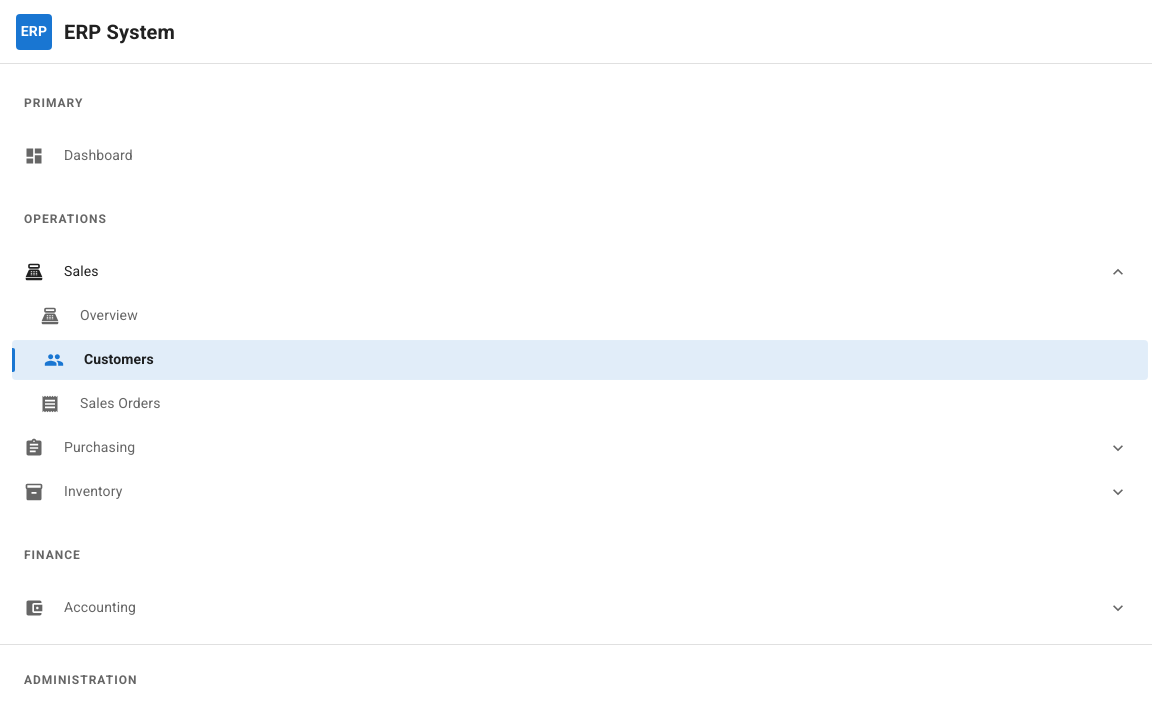
Sidebar › collapses expanded groups when navigating to a route without a parent group
Expected: the text "Customers" is shown, left=84, top=351, right=154, bottom=367
Step 1. Click the button "Dashboard" → [78, 156], box left=24, top=146, right=133, bottom=166
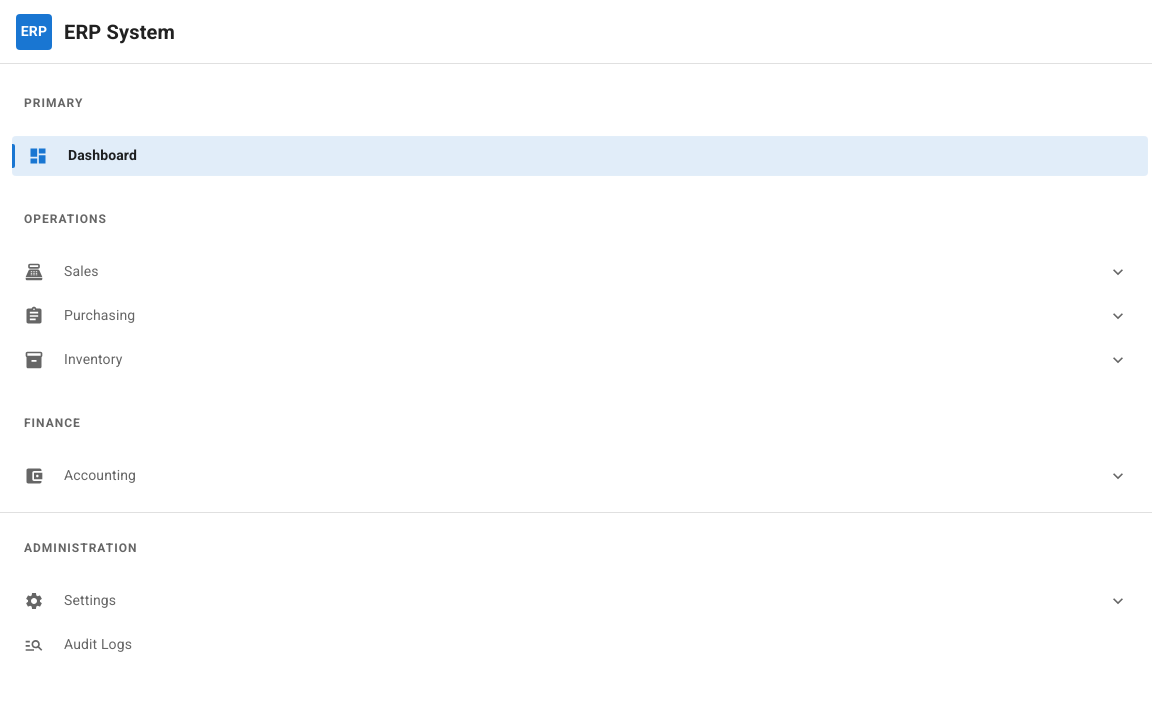
Expected: the button "Customers" is gone
